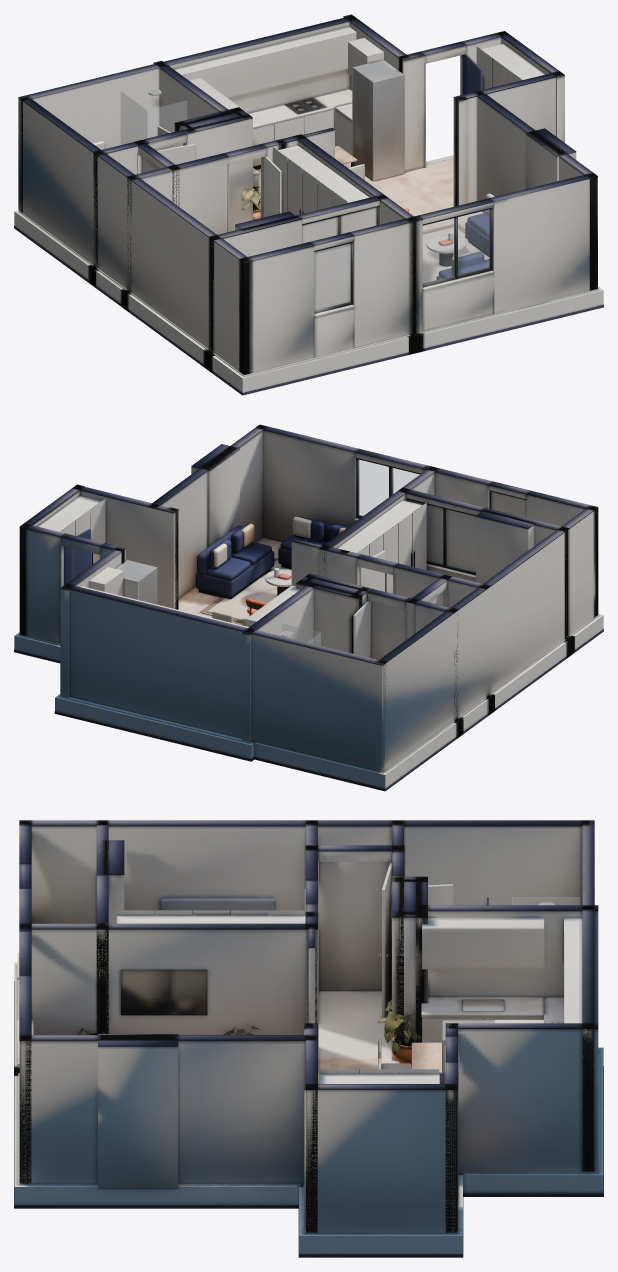
3 views of the same model, one above another, from view 1: azimuth 30°, elevation 25°; view 2: azimuth 150°, elevation 25°; view 3: azimuth 270°, elevation 25° (orthographic). The views are drawn at different scales.
Visible parts, largest first — view 1: plan, glass0_m, glass1_m, sg_m, sg.001_m; view 2: plan, glass2_m, glass0_m; view 3: plan.
Part boxes in pixels (x1=…): plan: x1=14, y1=14, x2=603, y2=395; glass0_m: x1=423, y1=209, x2=489, y2=283; glass1_m: x1=315, y1=244, x2=350, y2=310; sg_m: x1=120, y1=91, x2=147, y2=144; sg.001_m: x1=147, y1=101, x2=186, y2=137; plan: x1=14, y1=424, x2=603, y2=791; glass2_m: x1=409, y1=501, x2=475, y2=571; glass0_m: x1=358, y1=460, x2=419, y2=516; plan: x1=14, y1=820, x2=603, y2=1257.
Size of the model in its own units: 9.25 by 2.62 by 8.44.
2 materials, 1 textured.
